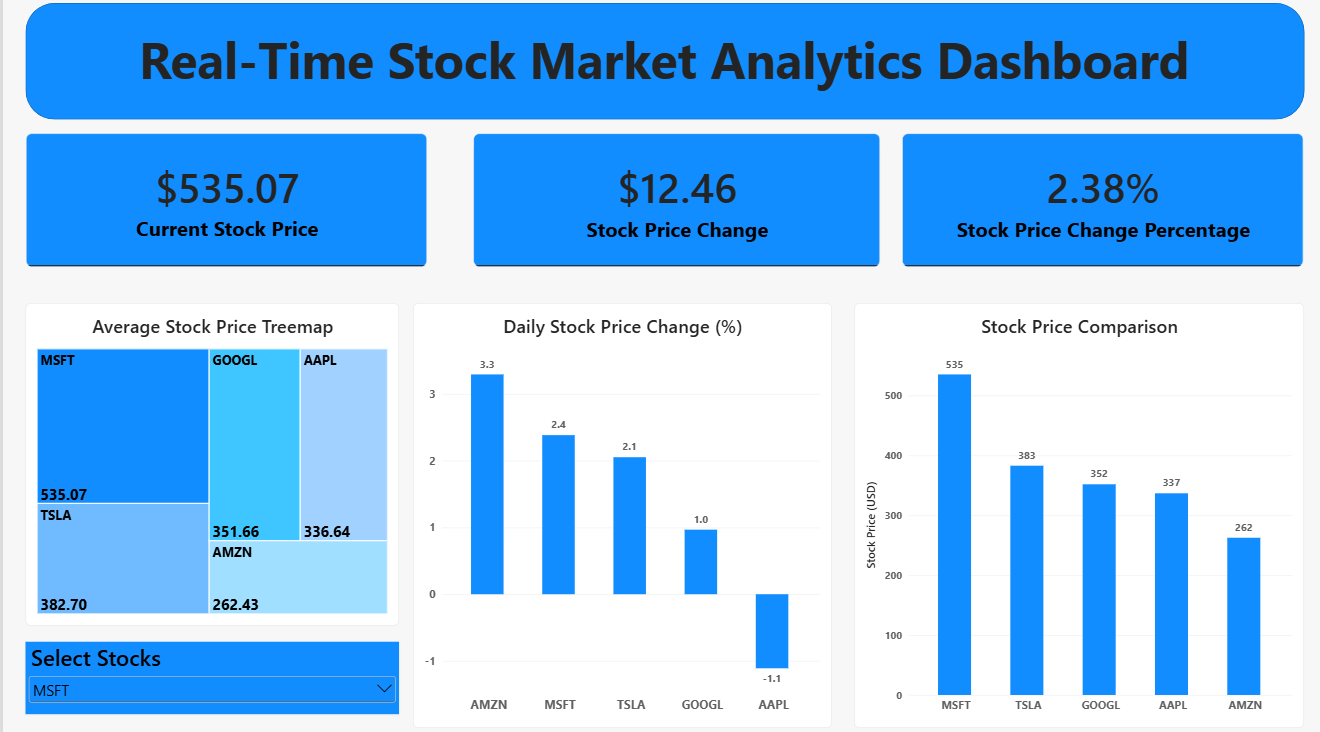

This screenshot's page, from the dashboard's own definition file:
{"tool":"powerbi","page":{"name":"Page 1","canvas":[1920,1080],"ordinal":0},"visuals":[{"type":"clusteredColumnChart","title":"Stock Price Comparison","fields":{"Category":["GOLD_KPI.SYMBOL"],"Y":["Sum(GOLD_KPI.CURRENT_PRICE)"]},"box":[1232.4,448.8,651.5,615.3],"z":0},{"type":"slicer","fields":{"Values":["GOLD_KPI.SYMBOL"]},"box":[32.6,939.2,541.1,105],"z":1000},{"type":"cardVisual","fields":{"Data":["GOLD_KPI.Current Stock Price"]},"box":[32,202.7,582.4,194.1],"z":2000},{"type":"cardVisual","fields":{"Data":["GOLD_KPI.Stock Price Change"]},"box":[680.5,202.7,590.9,194.1],"z":3000},{"type":"cardVisual","fields":{"Data":["GOLD_KPI.Stock Price Change Percentage"]},"box":[1301.3,202.7,582.4,194.1],"z":4000},{"type":"shape","box":[32,14.9,1851.7,168.5],"z":5000},{"type":"textbox","box":[147.2,46.9,1621.3,106.7],"z":6000},{"type":"clusteredColumnChart","title":"Daily Stock Price Change (%)","fields":{"Category":["GOLD_KPI.SYMBOL"],"Y":["Sum(GOLD_KPI.CHANGE_PERCENT)"]},"box":[593.6,448.8,606.2,615.3],"z":7000},{"type":"treemap","title":"Average Stock Price Treemap","fields":{"Group":["GOLD_TREECHART.SYMBOL"],"Values":["Avg(GOLD_TREECHART.AVG_PRICE)"]},"box":[32.6,448.8,541.1,466.9],"z":7001}]}

Visuals, with their boxes in screenshot pixels (x1, y1, x2, y2), scaled from the page's 1920x1080 canvas onto the 1320x732 screenshot:
"Stock Price Comparison" clusteredColumnChart: [847,304,1295,721]
slicer - GOLD_KPI.SYMBOL: [22,637,394,708]
cardVisual - GOLD_KPI.Current Stock Price: [22,137,422,269]
cardVisual - GOLD_KPI.Stock Price Change: [468,137,874,269]
cardVisual - GOLD_KPI.Stock Price Change Percentage: [895,137,1295,269]
shape: [22,10,1295,124]
textbox: [101,32,1216,104]
"Daily Stock Price Change (%)" clusteredColumnChart: [408,304,825,721]
"Average Stock Price Treemap" treemap: [22,304,394,621]
